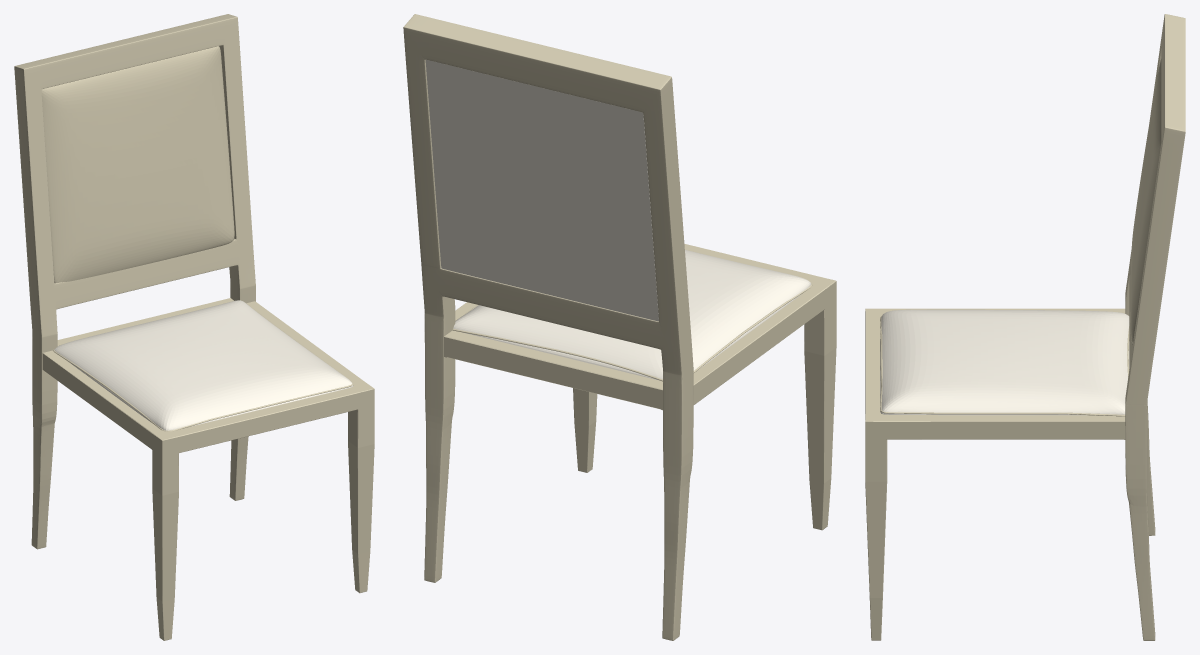
File: Chair.gltf
The picture shows the model from 3 angles, left to right: view 1: azimuth 30°, elevation 25°; view 2: azimuth 150°, elevation 25°; view 3: azimuth 270°, elevation 25°; orthographic projection. The views are drawn at different scales.
Parts seen in each view (by area): view 1: Box70, Box67, Box66, Box68, Line5843; view 2: Box71, Box67, Box68, Box66, Line5843; view 3: Box66, Box67, Box68, Box70, Line5843.
Boxes of the visible parts, x1=… form: Box70: x1=41, y1=46, x2=234, y2=283; Box67: x1=14, y1=14, x2=255, y2=549; Box66: x1=54, y1=300, x2=353, y2=430; Box68: x1=42, y1=298, x2=374, y2=640; Line5843: x1=53, y1=303, x2=352, y2=431; Box71: x1=425, y1=60, x2=658, y2=321; Box67: x1=403, y1=14, x2=693, y2=640; Box68: x1=444, y1=243, x2=836, y2=530; Box66: x1=453, y1=250, x2=811, y2=380; Line5843: x1=452, y1=253, x2=812, y2=381; Box66: x1=880, y1=309, x2=1129, y2=415; Box67: x1=1125, y1=14, x2=1185, y2=640; Box68: x1=865, y1=308, x2=1125, y2=640; Box70: x1=1130, y1=59, x2=1161, y2=343; Line5843: x1=880, y1=315, x2=1129, y2=416.
Bounding box in the file's own units: 493 × 1043 × 587.
